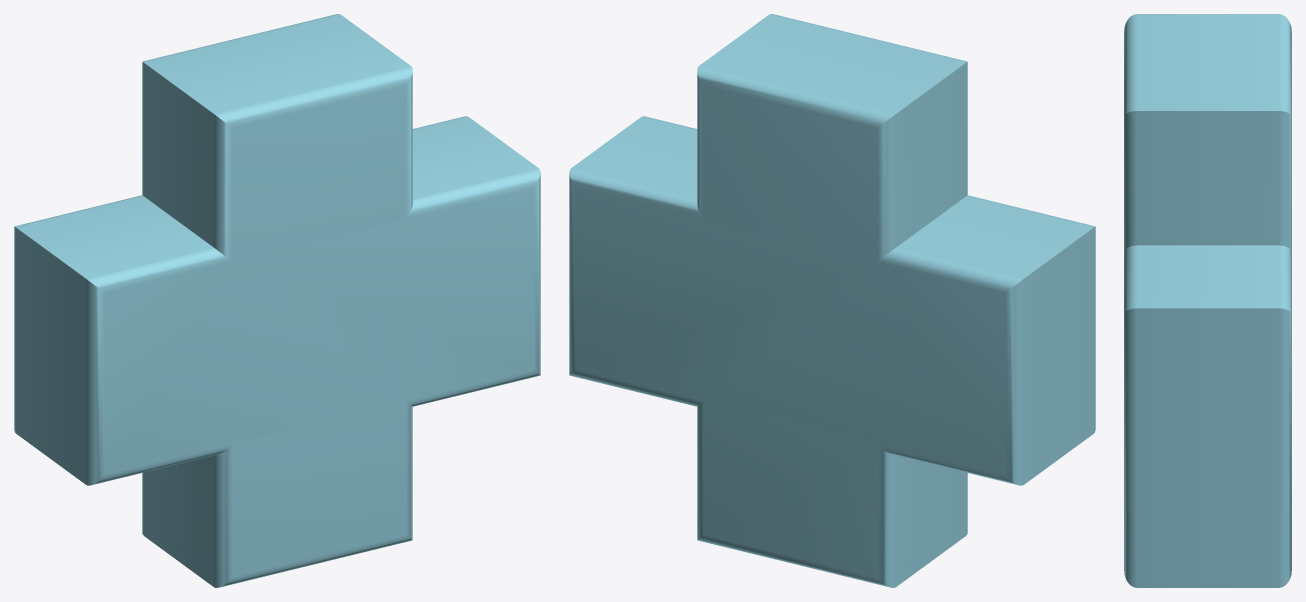
File: Collab.glb
3 views of the same model, side by side, from view 1: azimuth 30°, elevation 25°; view 2: azimuth 150°, elevation 25°; view 3: azimuth 270°, elevation 25° (orthographic).
Visible parts, largest first — view 1: Collab_render; view 2: Collab_render; view 3: Collab_render.
Boxes of the visible parts, x1=… form: Collab_render: x1=14, y1=14, x2=540, y2=587; Collab_render: x1=569, y1=14, x2=1095, y2=587; Collab_render: x1=1124, y1=14, x2=1291, y2=587.
Size of what is drawn, in the model's own units: 1.57 by 1.57 by 0.5.
